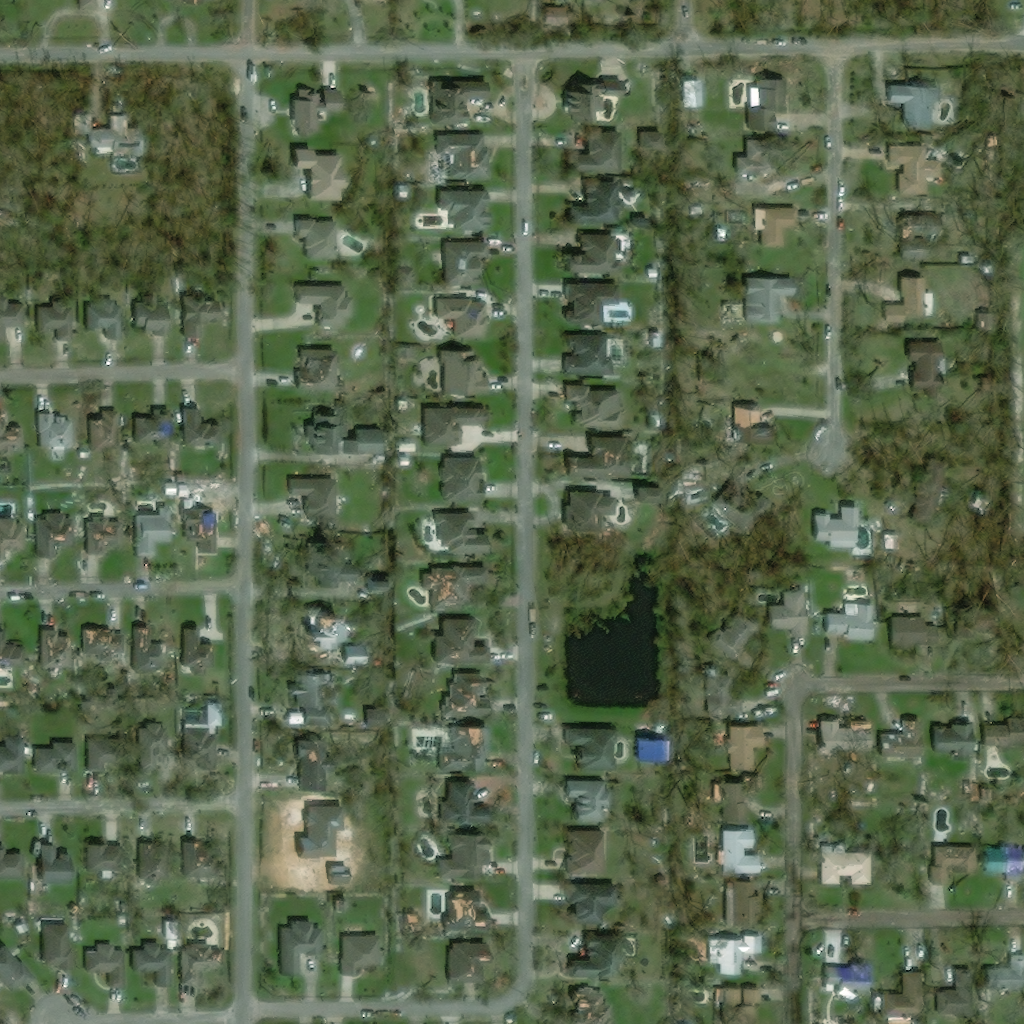major_damage: (574, 990, 615, 1023)
minor_damage: (436, 618, 490, 667), (715, 774, 765, 825), (567, 435, 628, 475), (894, 214, 946, 260), (438, 135, 489, 181), (441, 350, 490, 395), (443, 725, 492, 770), (78, 111, 129, 153), (425, 566, 475, 608), (437, 890, 492, 928), (444, 673, 489, 718), (820, 716, 875, 752), (932, 844, 978, 884), (296, 347, 336, 391), (297, 739, 331, 790), (93, 407, 133, 450), (449, 941, 488, 984), (880, 719, 924, 757), (86, 515, 124, 557), (182, 941, 220, 982), (37, 509, 73, 552), (736, 403, 776, 441), (299, 615, 345, 648), (721, 829, 755, 873), (86, 629, 126, 663), (183, 513, 216, 553), (185, 627, 216, 668), (824, 966, 871, 993), (141, 841, 169, 884), (42, 629, 72, 666), (0, 413, 26, 455), (0, 631, 26, 667), (185, 841, 209, 876), (141, 417, 170, 439), (130, 628, 148, 663)
no_damage: (416, 402, 488, 447), (292, 148, 346, 201), (434, 76, 490, 125), (710, 935, 763, 984), (569, 937, 628, 978), (297, 804, 343, 856), (743, 277, 794, 323), (438, 512, 492, 555), (298, 286, 353, 328), (568, 383, 620, 426), (280, 921, 322, 974), (294, 90, 340, 138), (705, 666, 746, 719), (0, 944, 35, 1006), (572, 128, 620, 173), (565, 232, 617, 273), (440, 833, 488, 877), (572, 184, 623, 225), (135, 499, 172, 555), (445, 241, 489, 288), (814, 506, 861, 549), (440, 191, 488, 233), (568, 728, 616, 770), (771, 590, 814, 636), (185, 288, 223, 340), (290, 479, 337, 521), (567, 334, 612, 377), (884, 277, 925, 323), (437, 298, 485, 337), (569, 283, 617, 322), (441, 782, 485, 824), (309, 541, 348, 588), (565, 781, 608, 823), (443, 456, 484, 500), (755, 208, 801, 247), (827, 603, 875, 639), (934, 722, 976, 763), (341, 934, 382, 975), (42, 412, 76, 461), (87, 943, 124, 988), (133, 724, 169, 770), (44, 916, 73, 973), (133, 942, 172, 984), (901, 84, 939, 127), (568, 830, 605, 874), (735, 139, 763, 197), (309, 414, 349, 454), (298, 219, 338, 259), (820, 852, 870, 884), (569, 879, 606, 922), (748, 79, 778, 131), (133, 296, 171, 337), (601, 487, 656, 515), (984, 949, 1023, 988), (183, 407, 221, 447), (721, 880, 755, 924), (725, 724, 758, 769), (723, 988, 764, 1023), (88, 299, 122, 340), (85, 844, 117, 887), (909, 341, 941, 383), (38, 300, 72, 339), (35, 742, 77, 773), (570, 83, 602, 123), (890, 145, 941, 170), (0, 498, 24, 550), (40, 845, 73, 882), (880, 994, 935, 1016), (891, 617, 934, 644), (184, 728, 219, 759), (688, 982, 716, 1016), (0, 735, 25, 773), (0, 846, 27, 879), (986, 847, 1019, 873), (88, 737, 111, 771), (345, 430, 379, 453), (0, 295, 24, 327), (291, 672, 315, 704), (985, 725, 1017, 749), (588, 481, 635, 495), (179, 485, 204, 510), (715, 627, 738, 654), (636, 737, 658, 761), (396, 267, 414, 287), (329, 865, 345, 883), (399, 348, 417, 364), (967, 779, 984, 795), (206, 703, 218, 725), (0, 457, 13, 471), (166, 483, 179, 495), (338, 900, 349, 912)
